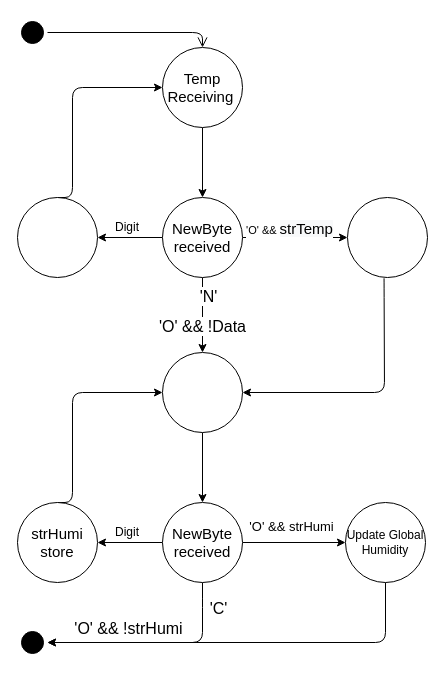
Some shapes in this 445 by 675 pixel diagram are drawn without their labels. The centre of each missing label's shape, as x and y in pixels:
Humi Receiving: (202,392)
strTemp store: (57,237)
Update Global Temp: (387,237)
